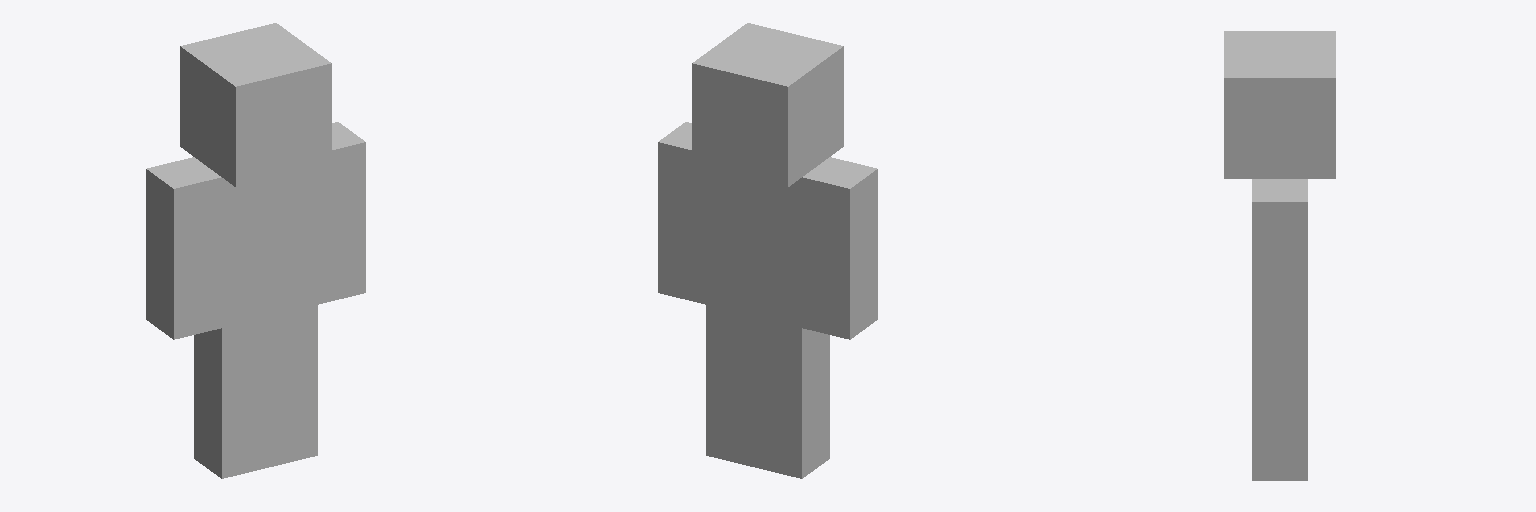
File: player.obj
3 renders of one model, left to right at view 1: azimuth 30°, elevation 25°; view 2: azimuth 150°, elevation 25°; view 3: azimuth 270°, elevation 25°, orthographic.
Visible parts, largest first — view 1: head_Cube.002, body_Cube.003, right_arm_Cube.005, right_leg_Cube.004, left_arm_Cube.007, left_leg_Cube.006; view 2: head_Cube.002, body_Cube.003, right_arm_Cube.005, right_leg_Cube.004, left_arm_Cube.007, left_leg_Cube.006; view 3: head_Cube.002, left_arm_Cube.007, left_leg_Cube.006.
Part boxes in pixels (x1,y1,x2,y2): head_Cube.002: (180, 23, 331, 186); body_Cube.003: (222, 167, 317, 327); right_arm_Cube.005: (146, 157, 221, 339); right_leg_Cube.004: (194, 317, 269, 478); left_arm_Cube.007: (318, 122, 365, 304); left_leg_Cube.006: (270, 305, 317, 466); head_Cube.002: (692, 23, 843, 186); body_Cube.003: (706, 167, 801, 327); right_arm_Cube.005: (802, 157, 877, 339); right_leg_Cube.004: (754, 317, 829, 478); left_arm_Cube.007: (658, 122, 705, 304); left_leg_Cube.006: (706, 305, 753, 466); head_Cube.002: (1224, 31, 1335, 178); left_arm_Cube.007: (1252, 179, 1307, 352); left_leg_Cube.006: (1252, 353, 1307, 480).
Bounding box in the file's own units: 1 × 2 × 0.5.